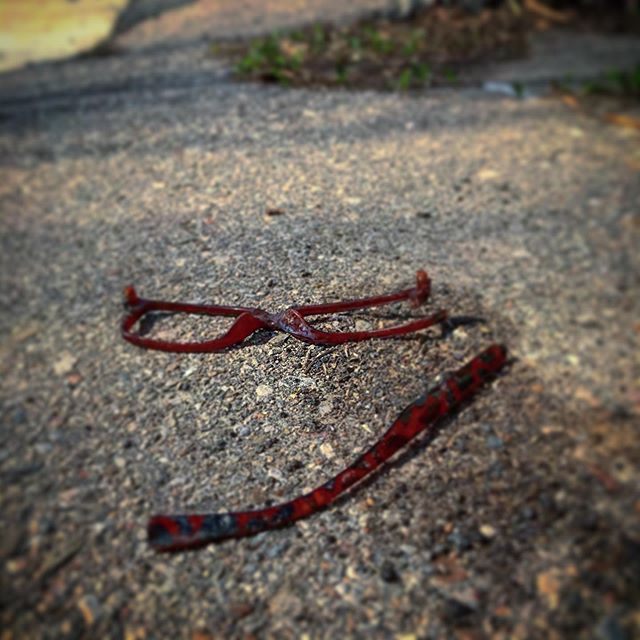trash: (87, 234, 546, 563)
